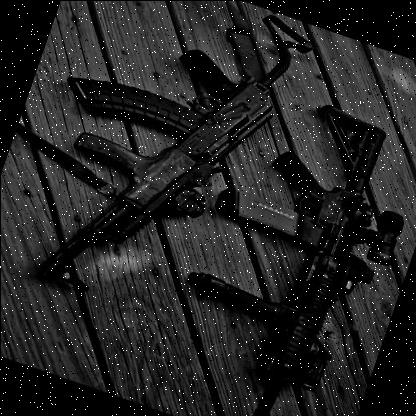rifle: (0, 0, 326, 336), (138, 74, 416, 416)
